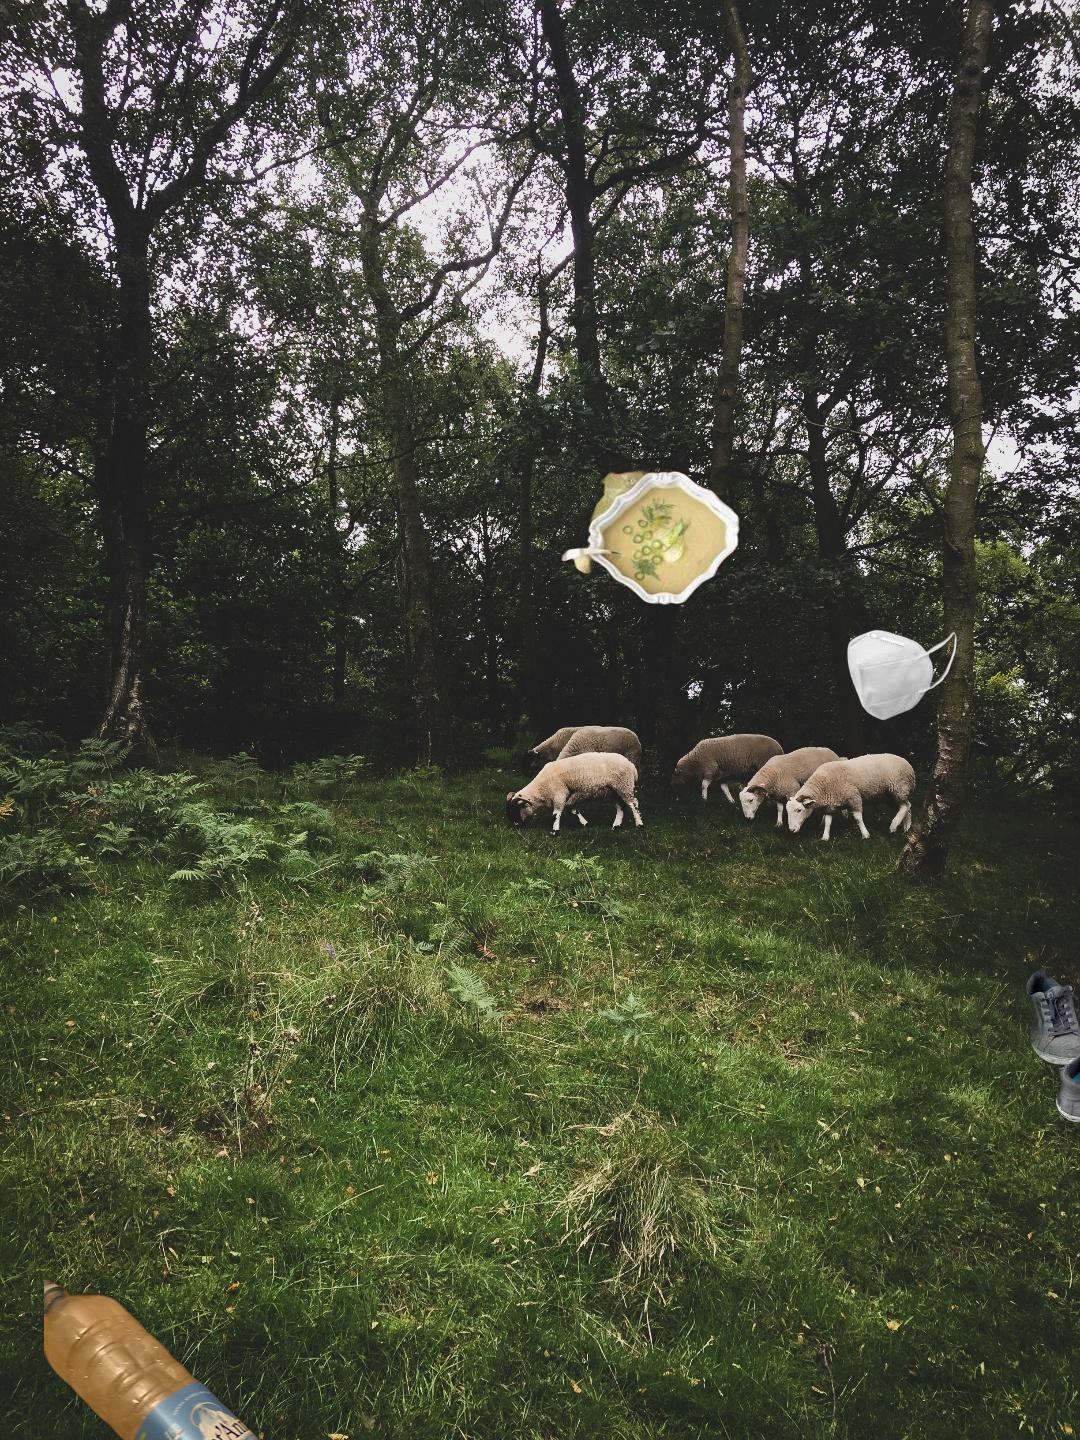biological: (482, 461, 968, 725)
plastic-bottles: (44, 1273, 326, 1440)
shoes: (1022, 962, 1080, 1122)
trash: (844, 627, 960, 723)
